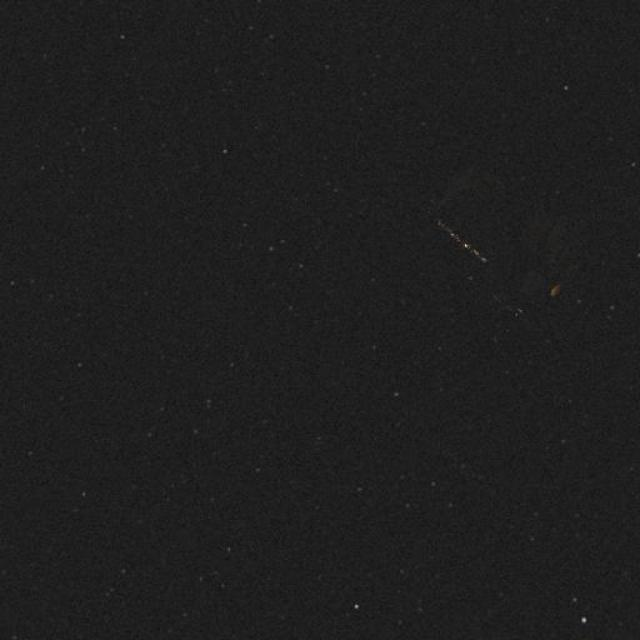soho: (404, 132, 628, 336)
